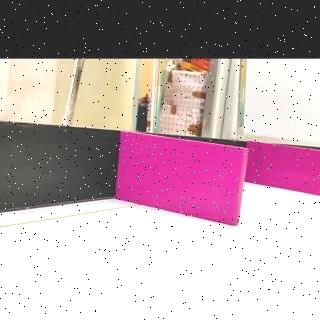xparking: (122, 147, 239, 215), (251, 148, 320, 194)
